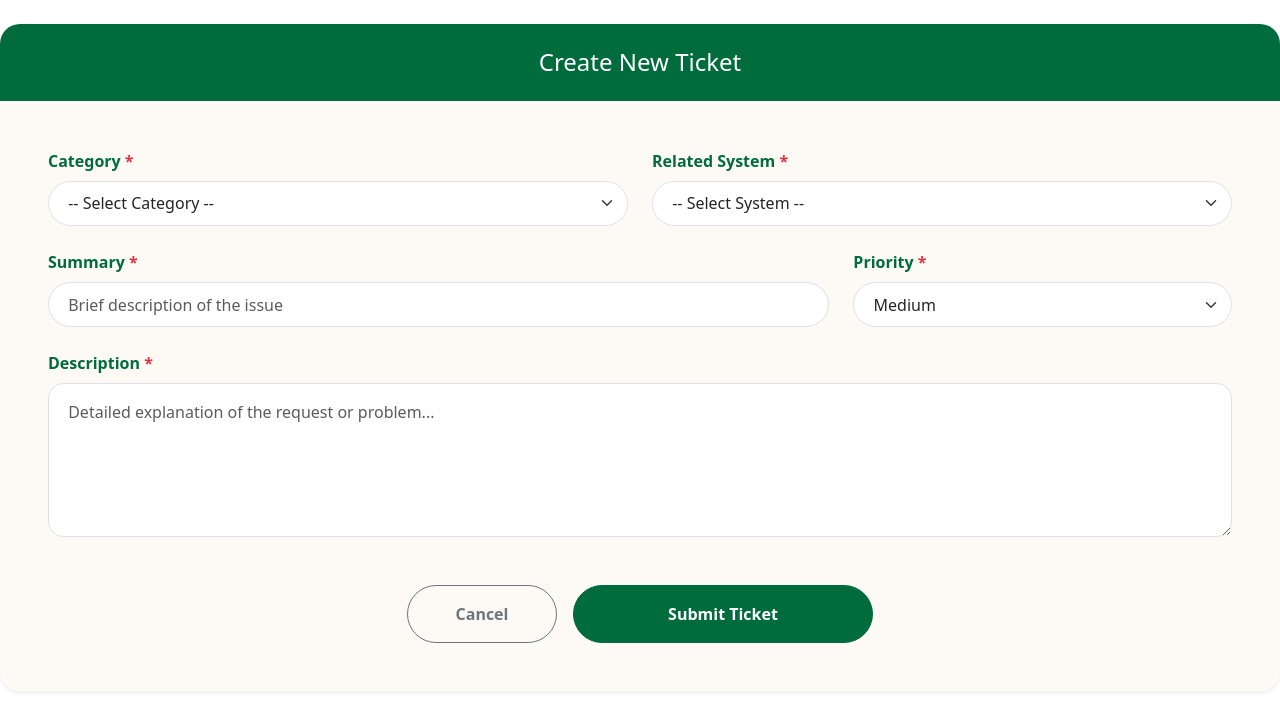
Test: CreateTicket Form › successfully submits the form and shows Ticket Number
The image size is (1280, 720).
Expected: the heading "Create New Ticket" is shown, [539,45,741,78]
Select "Hardware" in the dropdown labelled "Category *" at coordinates (338, 203), box [48,181,628,226]
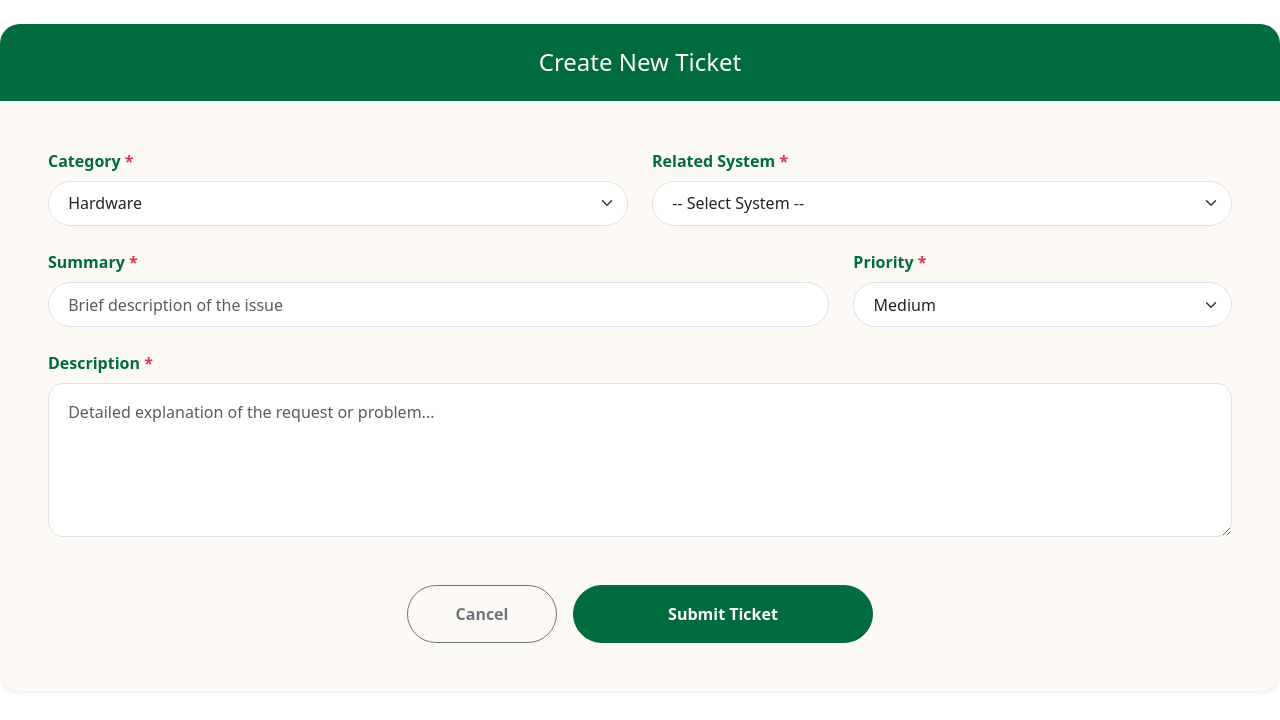
Select "ERP" in the dropdown labelled "Related System *" at coordinates (942, 203), box [652,181,1232,226]
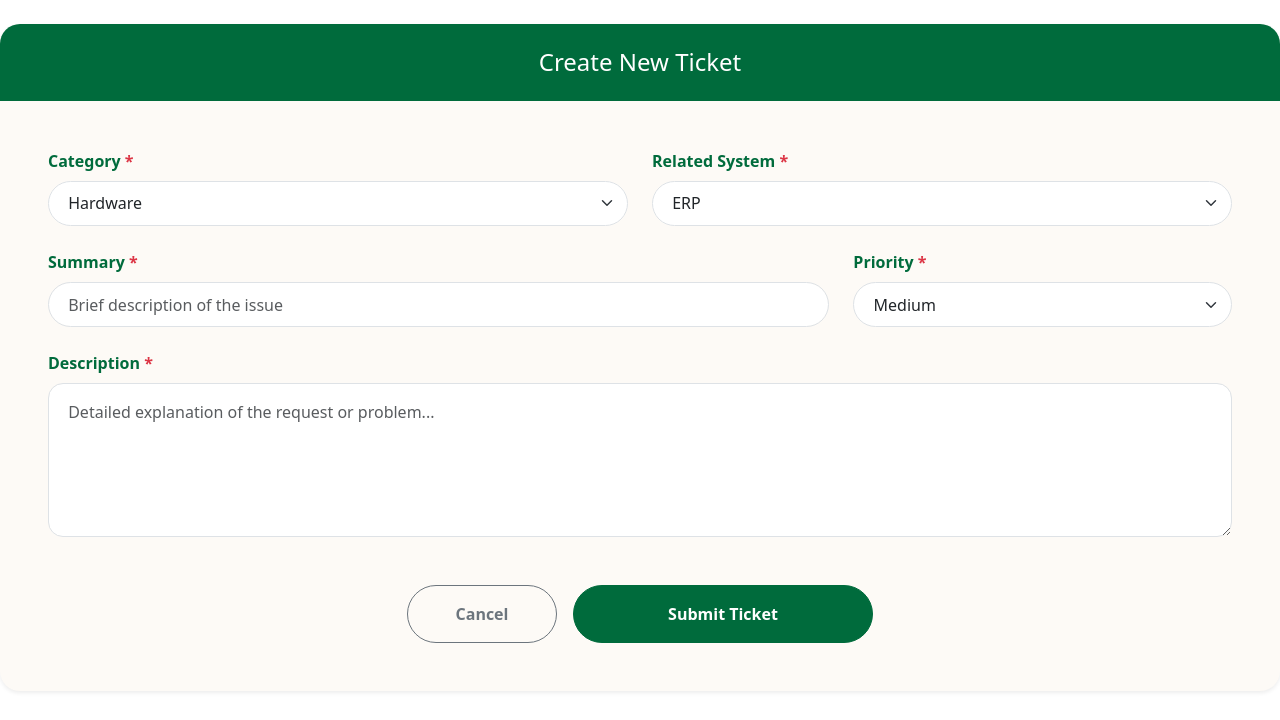
Type "My issue" into the field labelled "Summary *" at coordinates (439, 305), box [48,282,829,327]
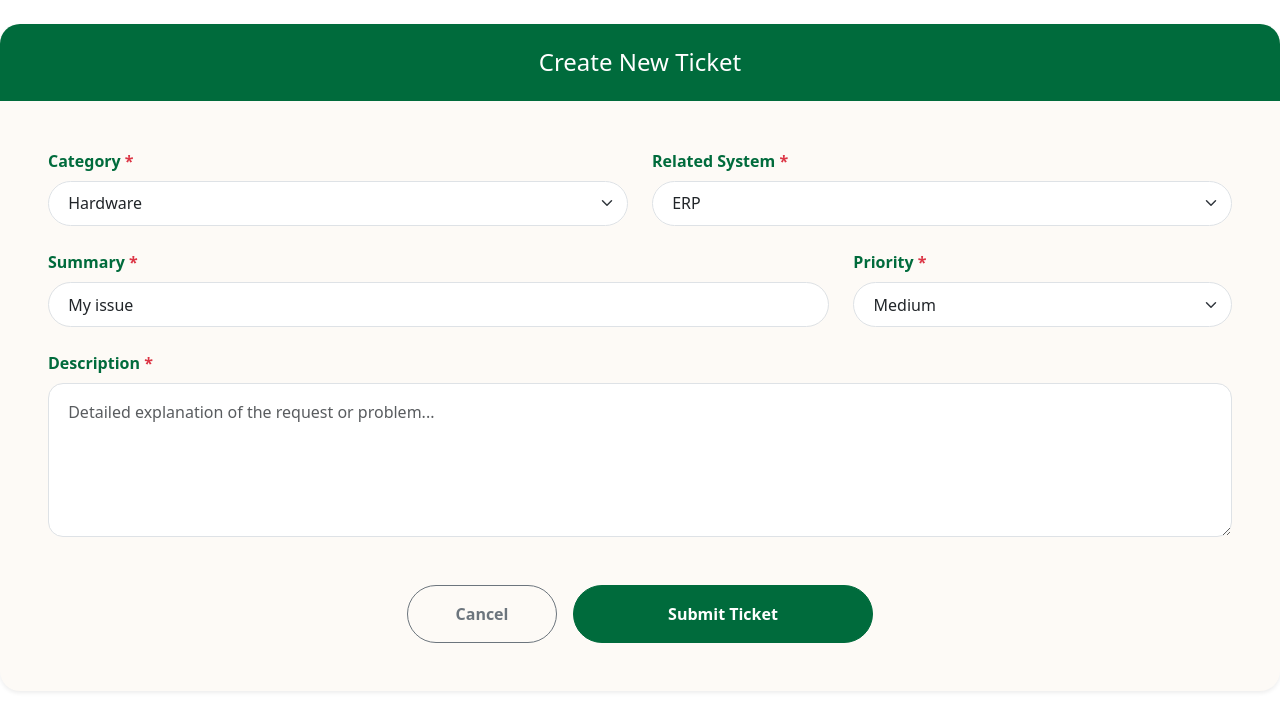
Type "It is broken" into the text box labelled "Description *" at coordinates (640, 460), box [48,383,1232,537]
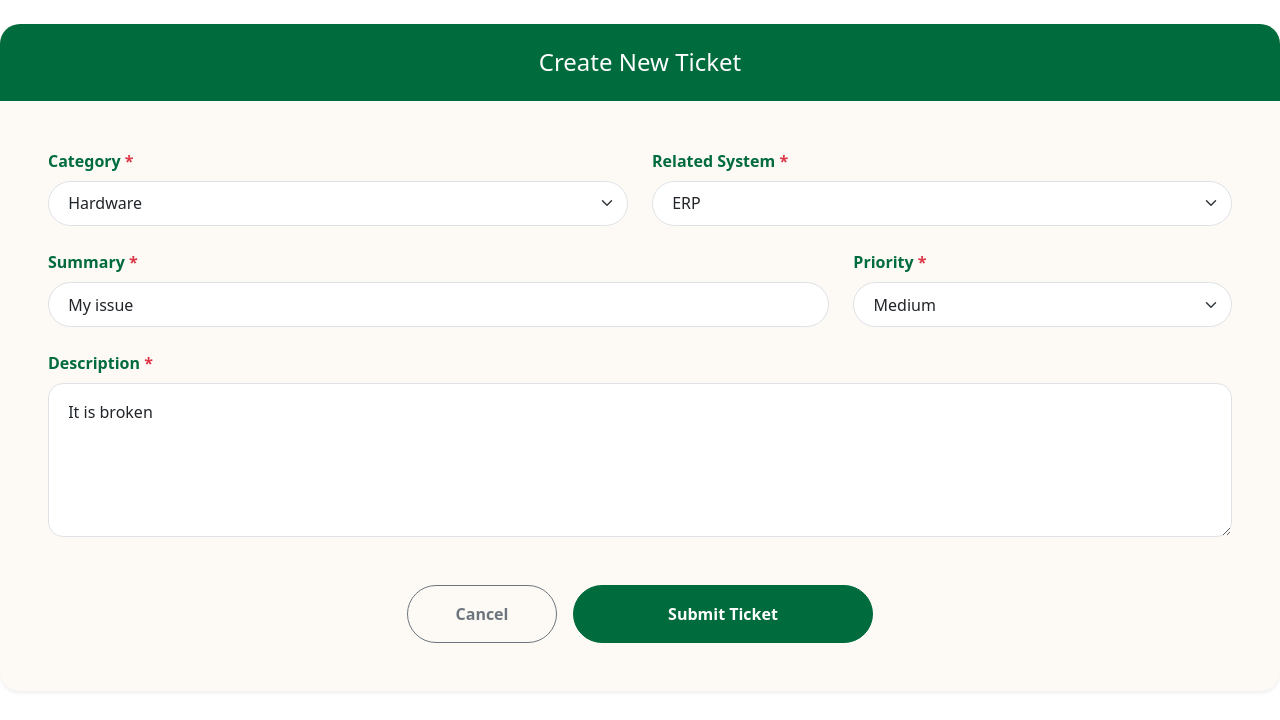
Click the button "Submit Ticket" at coordinates (723, 614), box [573,585,873,643]
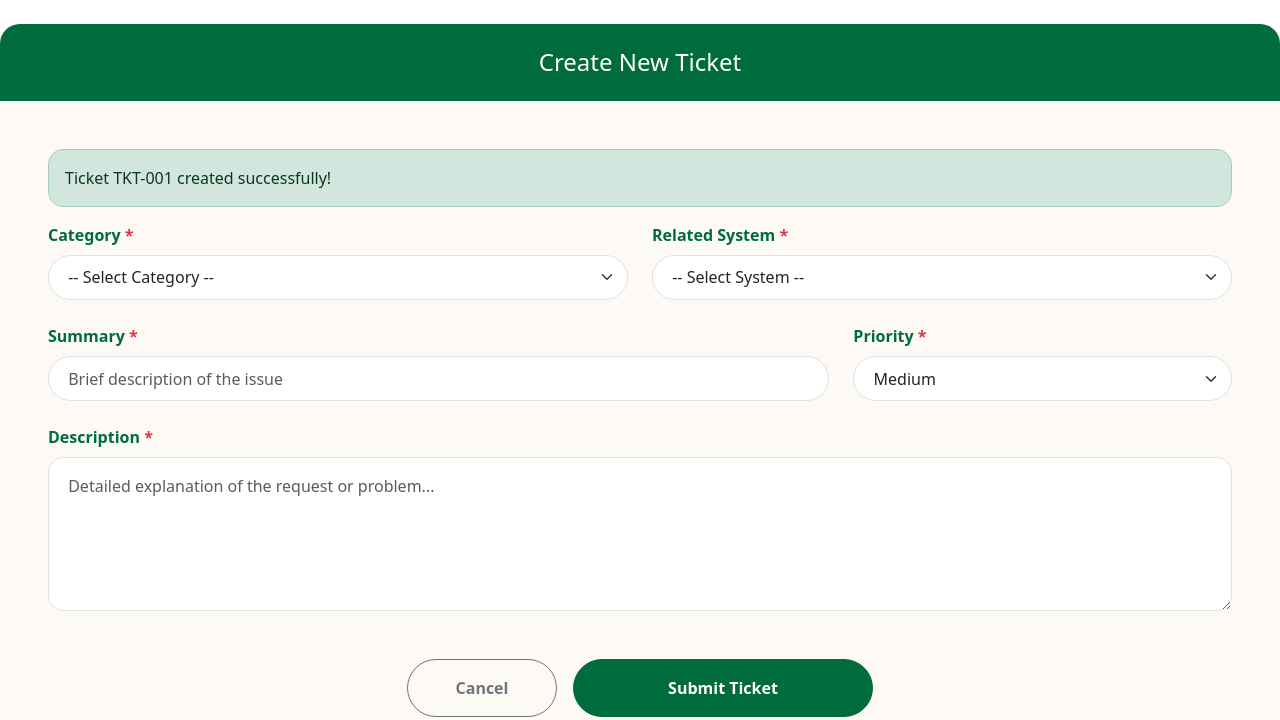
Now the text "Ticket TKT-001 created successfully!" is shown, box [48,149,1232,207]
